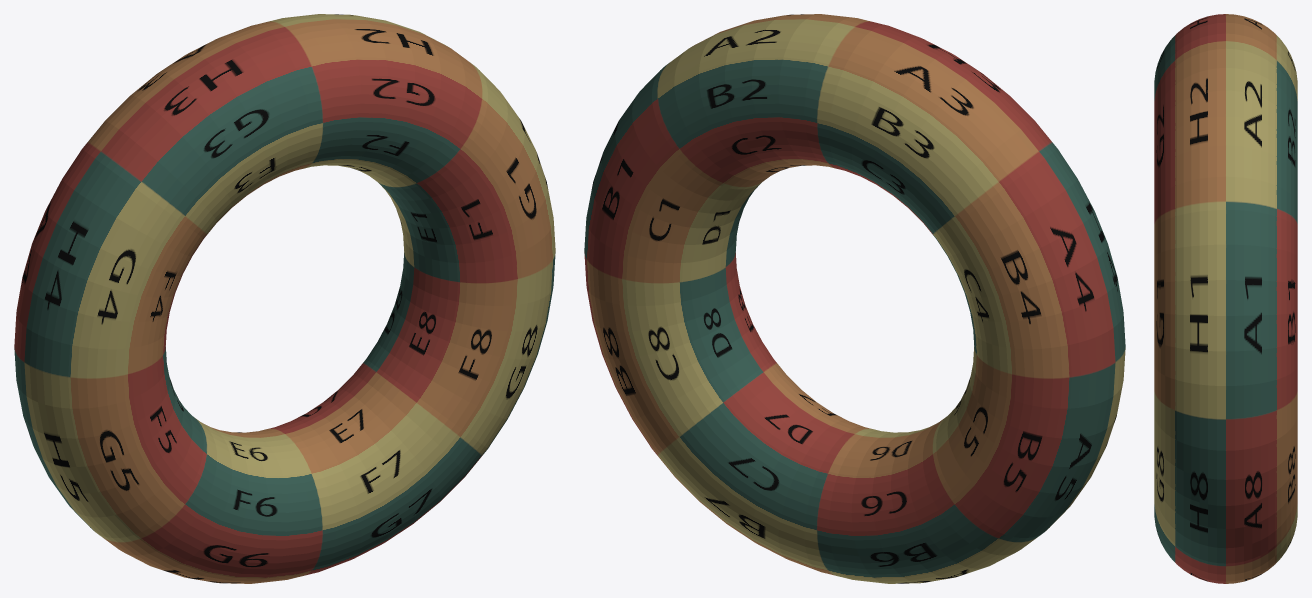
The model's file is texture_torus_R26_r27.glb.
3 renders of one model, left to right at view 1: azimuth 30°, elevation 25°; view 2: azimuth 150°, elevation 25°; view 3: azimuth 270°, elevation 25°, orthographic. The views are drawn at different scales.
Parts seen in each view (by area): view 1: world; view 2: world; view 3: world.
Part boxes in pixels (<box>): world: <box>14,14,555,583</box>; world: <box>584,14,1125,583</box>; world: <box>1154,14,1297,583</box>.
Size of the model in its own units: 36.53 by 36.46 by 9.18.
Materials: 1 (1 with a texture image).
